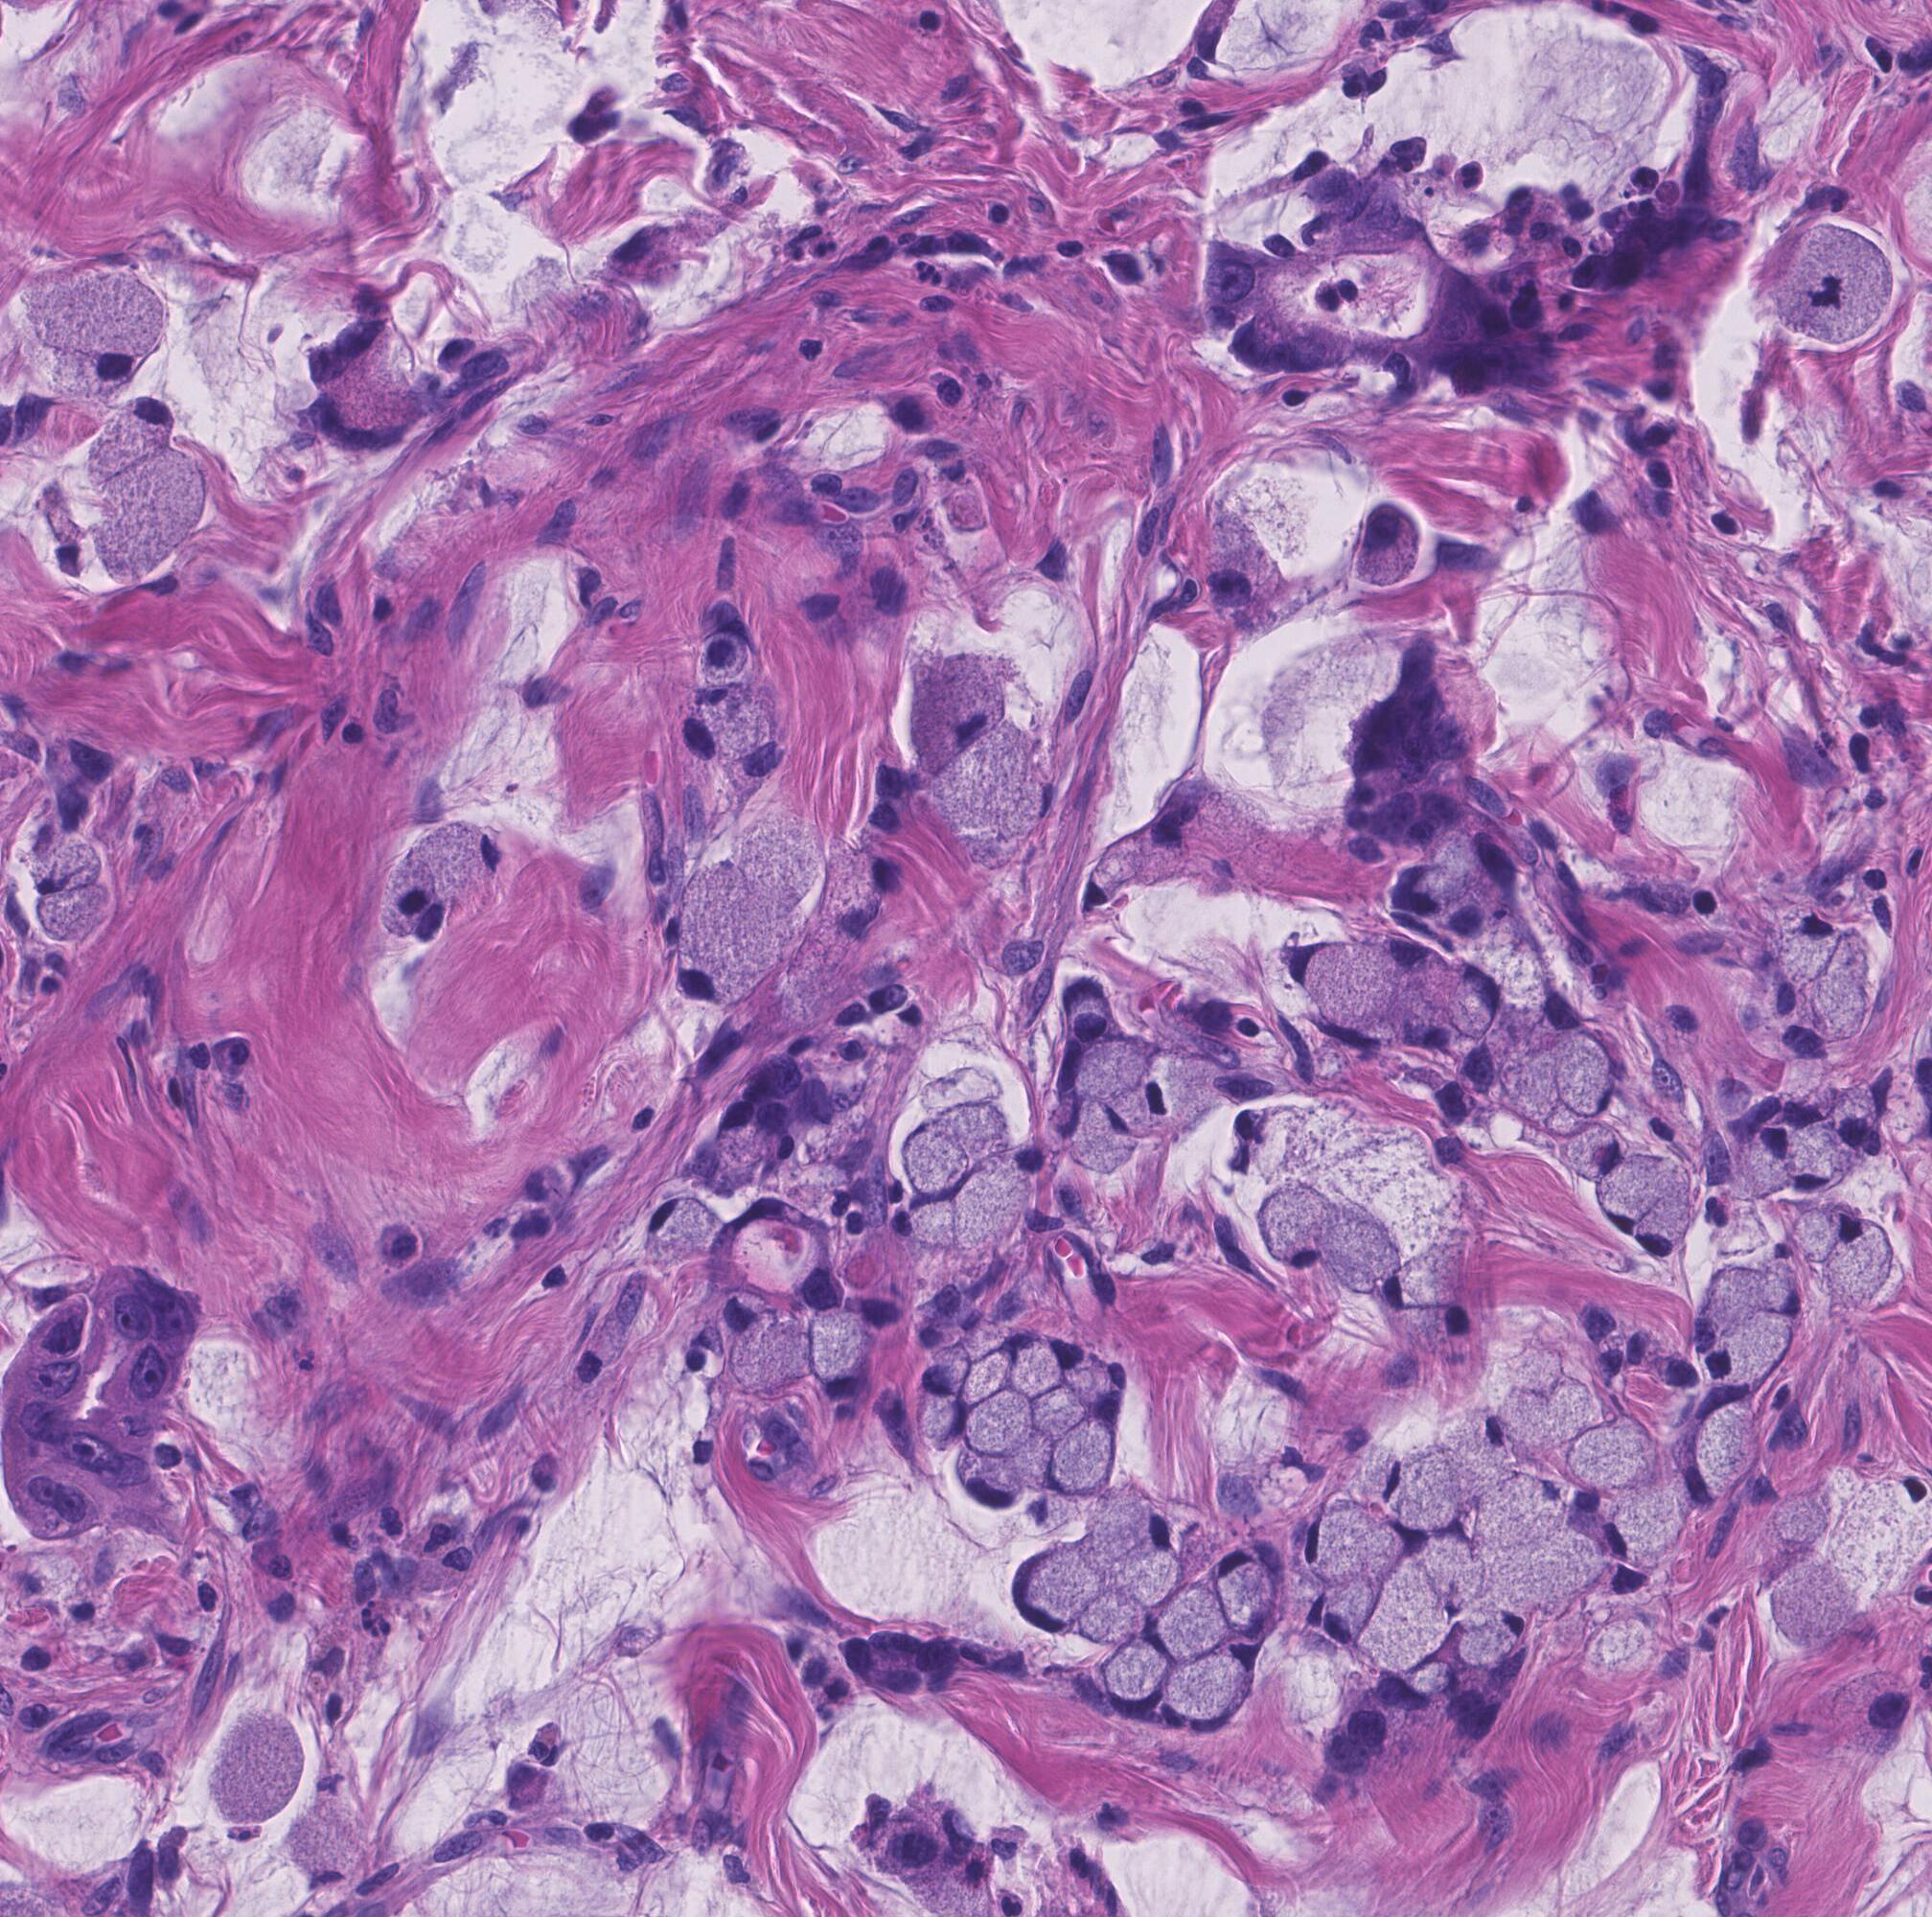ring_cell_cancer: (16, 262, 175, 388), (679, 857, 790, 1004), (1746, 226, 1885, 339), (898, 644, 1004, 764), (962, 725, 1063, 837), (1286, 939, 1393, 1025), (416, 811, 504, 913), (1688, 1387, 1758, 1508), (1167, 1643, 1267, 1726), (1109, 1504, 1193, 1597), (30, 844, 105, 948), (86, 398, 175, 483), (1377, 1445, 1467, 1529), (1300, 1496, 1388, 1580), (1258, 1178, 1328, 1278), (1542, 1032, 1620, 1122), (1013, 1550, 1097, 1631), (1825, 1217, 1906, 1299), (1137, 1048, 1218, 1129), (1767, 1111, 1844, 1195), (1593, 1148, 1671, 1231), (1709, 1324, 1809, 1387), (1606, 1490, 1686, 1566), (805, 1311, 870, 1401), (1381, 929, 1448, 1013), (1048, 1415, 1114, 1497), (1213, 1548, 1274, 1634), (379, 857, 442, 939), (1453, 1401, 1520, 1478), (1102, 1636, 1167, 1715), (1386, 1245, 1453, 1320), (1063, 1108, 1135, 1176), (1699, 1266, 1760, 1341), (1641, 1183, 1700, 1259), (1778, 908, 1837, 983), (642, 1195, 712, 1257), (1005, 1332, 1076, 1394), (1320, 1582, 1385, 1647), (955, 1450, 1025, 1506), (1453, 967, 1511, 1032), (1460, 1612, 1527, 1664), (1753, 1267, 1818, 1317)
